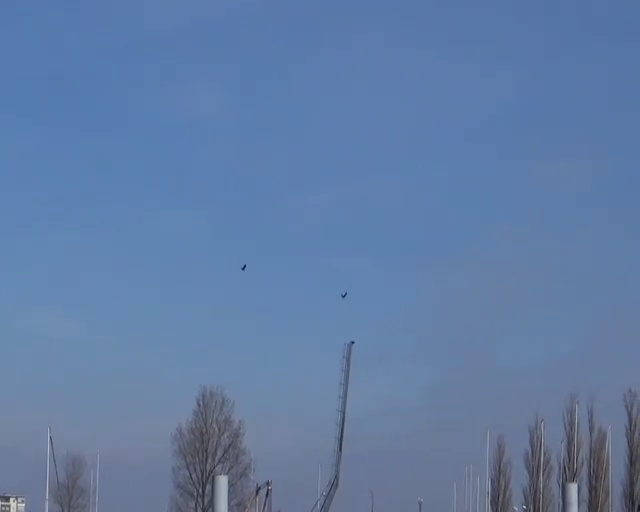BIRD: (241, 263, 247, 271)
